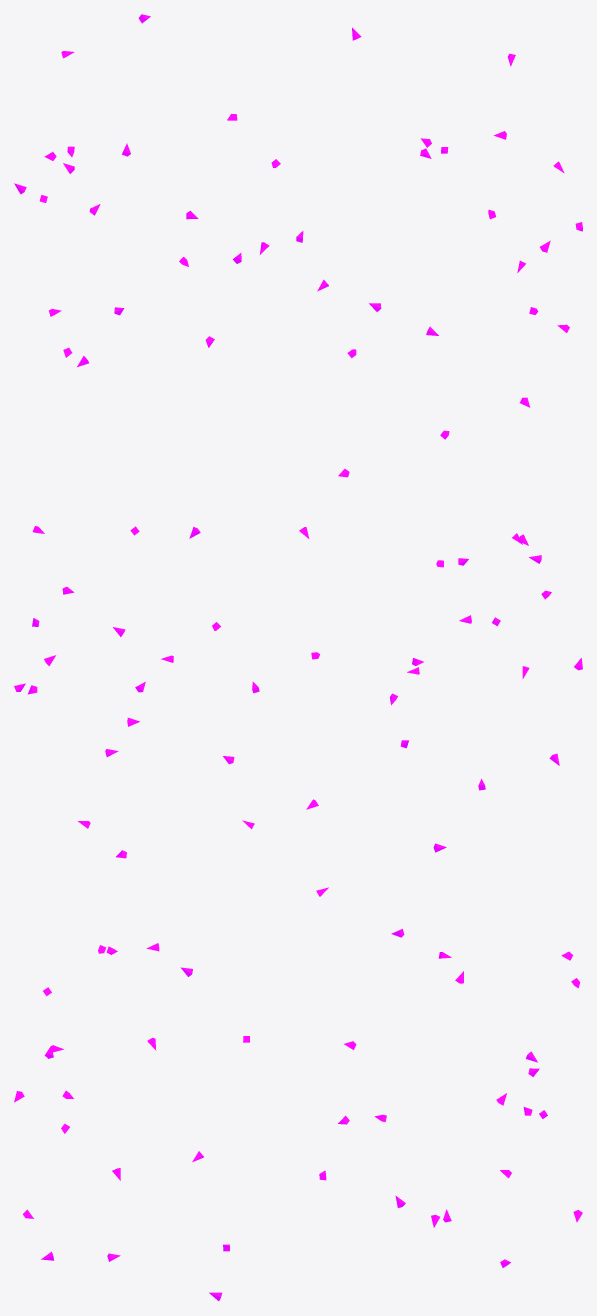
File: Dream3_Data_Runes.glb
3 renders of one model, top to bottom at view 1: azimuth 30°, elevation 25°; view 2: azimuth 150°, elevation 25°; view 3: azimuth 270°, elevation 25°, orthographic.
Bounding box in the file's own units: 17.4 × 7.92 × 17.73.
